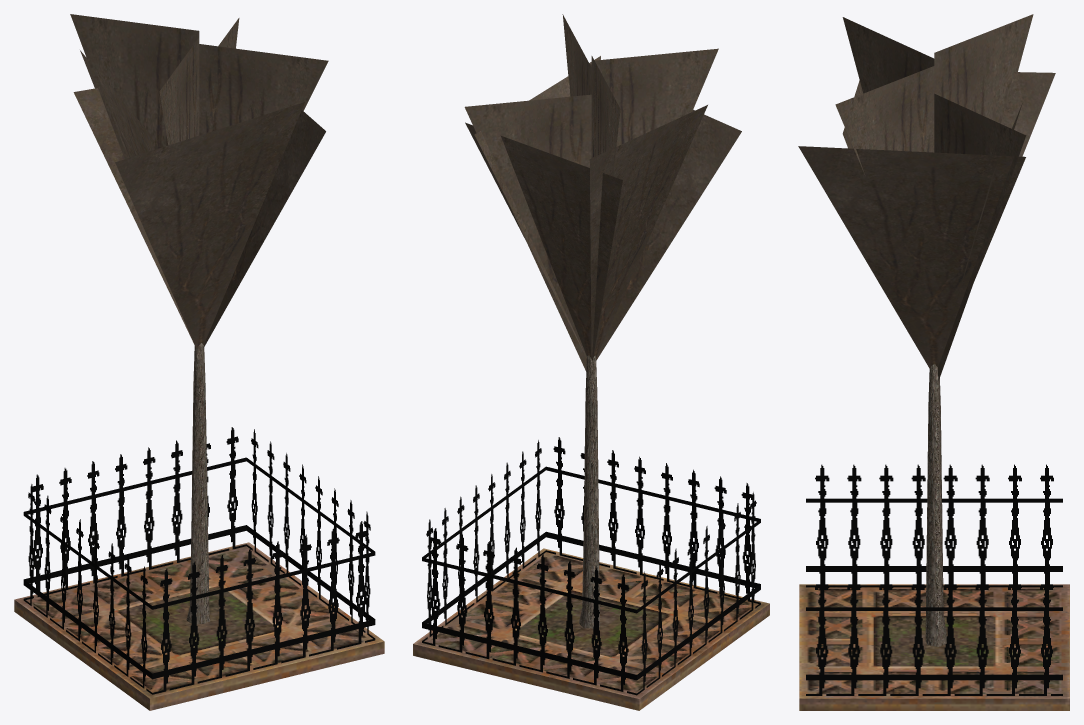
File: smalltree2a_base.fbx
The picture shows the model from 3 angles, left to right: view 1: azimuth 30°, elevation 25°; view 2: azimuth 150°, elevation 25°; view 3: azimuth 270°, elevation 25°; orthographic projection. The views are drawn at different scales.
Visible parts, largest first — view 1: mesh_1, mesh_4, mesh_2, mesh_0, mesh_3; view 2: mesh_1, mesh_4, mesh_2, mesh_0, mesh_3; view 3: mesh_1, mesh_4, mesh_2, mesh_0, mesh_3.
Boxes of the visible parts, x1=… form: mesh_1: x1=70, y1=14, x2=328, y2=349; mesh_4: x1=14, y1=542, x2=384, y2=710; mesh_2: x1=23, y1=427, x2=375, y2=694; mesh_0: x1=186, y1=343, x2=209, y2=623; mesh_3: x1=34, y1=438, x2=373, y2=638; mesh_1: x1=464, y1=14, x2=741, y2=371; mesh_4: x1=413, y1=548, x2=769, y2=710; mesh_2: x1=422, y1=437, x2=760, y2=695; mesh_0: x1=579, y1=355, x2=600, y2=628; mesh_3: x1=423, y1=438, x2=759, y2=640; mesh_1: x1=798, y1=14, x2=1055, y2=381; mesh_4: x1=799, y1=584, x2=1069, y2=710; mesh_2: x1=806, y1=464, x2=1062, y2=695; mesh_0: x1=925, y1=363, x2=946, y2=646; mesh_3: x1=806, y1=476, x2=1062, y2=587.
Size of the model in its own units: 203 by 490 by 201.
Materials: 4 (4 with a texture image).
